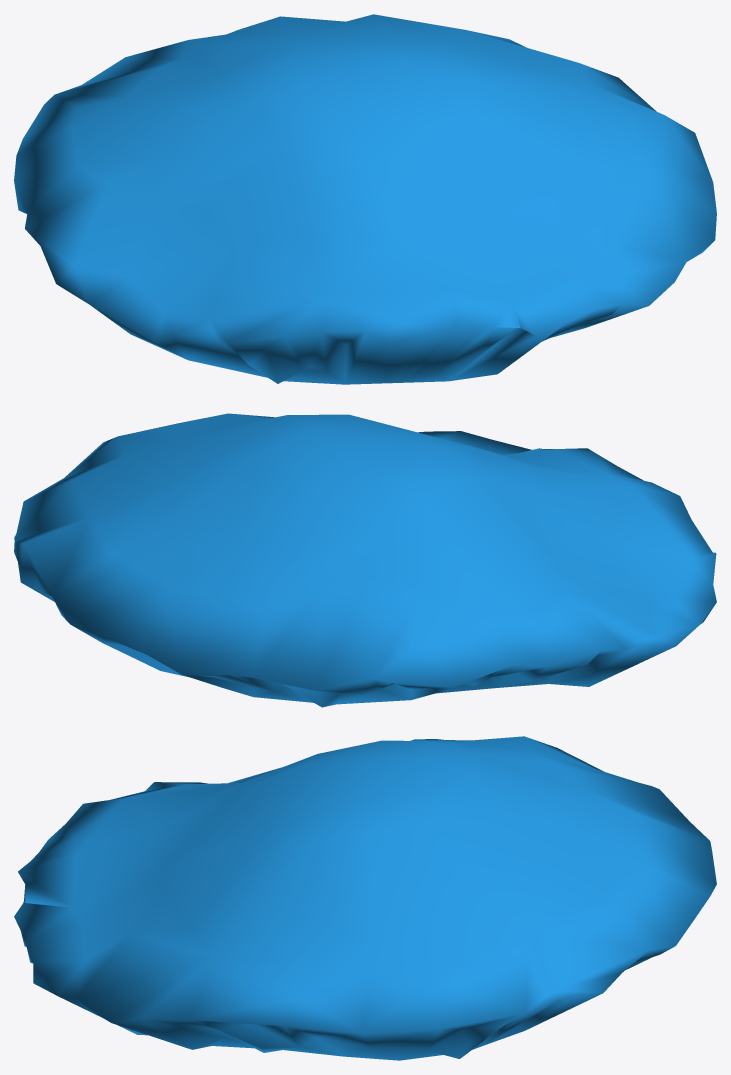
The model's file is SM_mushroom_blue_04.fbx.
The picture shows the model from 3 angles, top to bottom: view 1: azimuth 30°, elevation 25°; view 2: azimuth 150°, elevation 25°; view 3: azimuth 270°, elevation 25°; orthographic projection.
Parts seen in each view (by area): view 1: mushroom_blue_04; view 2: mushroom_blue_04; view 3: mushroom_blue_04.
Boxes of the visible parts, x1=… form: mushroom_blue_04: x1=14, y1=14, x2=716, y2=384; mushroom_blue_04: x1=14, y1=413, x2=716, y2=707; mushroom_blue_04: x1=14, y1=736, x2=716, y2=1060.
Bounding box in the file's own units: 405 × 151 × 404.
